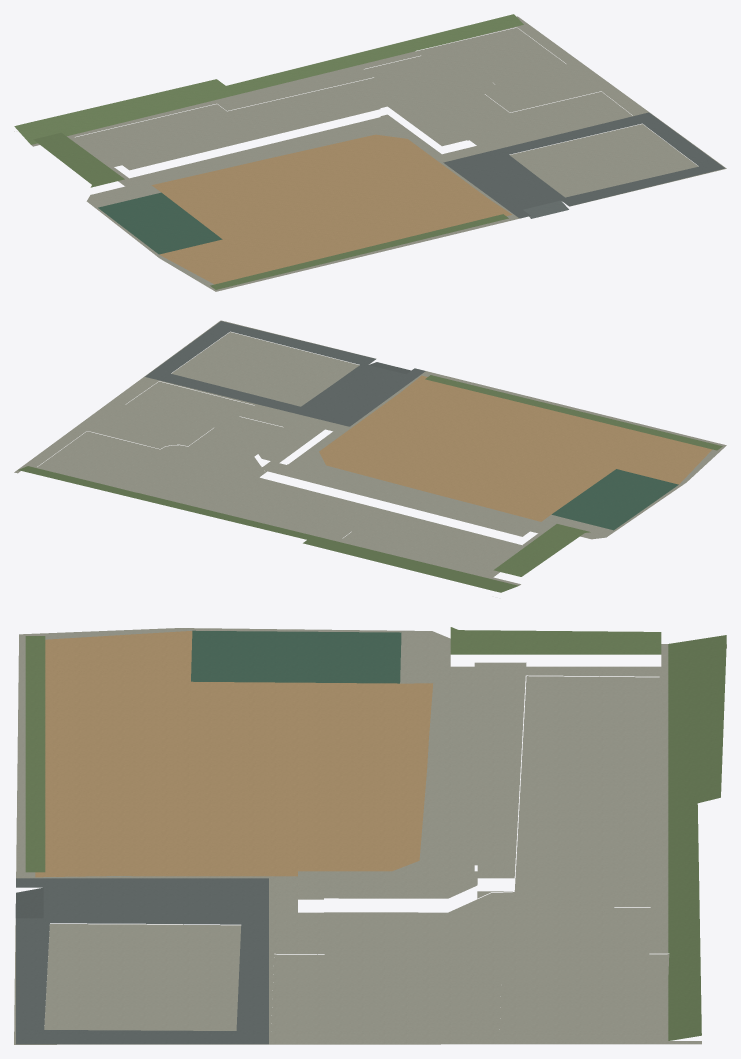
3 views of the same model, one above another, from view 1: azimuth 30°, elevation 25°; view 2: azimuth 150°, elevation 25°; view 3: azimuth 270°, elevation 25° (orthographic). The views are drawn at different scales.
Parts seen in each view (by area): view 1: surface_dirt-field, surface_underbuilding-561910484, surface_school-walk, surface_north-bank, surface_gym-approach, surface_underbuilding-561910485, surface_basketball, surface_main-apron, surface_west-garden, surface_south-garden, surface_wing-apron, surface_gate-ramp; view 2: surface_dirt-field, surface_underbuilding-561910484, surface_school-walk, surface_gym-approach, surface_underbuilding-561910485, surface_north-bank, surface_basketball, surface_main-apron, surface_west-garden, surface_south-garden, surface_wing-apron; view 3: surface_dirt-field, surface_underbuilding-561910484, surface_school-walk, surface_gym-approach, surface_underbuilding-561910485, surface_north-bank, surface_basketball, surface_main-apron, surface_west-garden, surface_south-garden, surface_wing-apron, surface_gate-ramp.
Boxes of the visible parts, box(x1,y1,x2,y2) form: surface_dirt-field: box(151, 134, 511, 284); surface_underbuilding-561910484: box(75, 27, 632, 166); surface_school-walk: box(14, 16, 726, 291); surface_north-bank: box(14, 14, 523, 144); surface_gym-approach: box(443, 112, 724, 218); surface_underbuilding-561910485: box(510, 124, 698, 197); surface_basketball: box(98, 192, 222, 254); surface_main-apron: box(114, 96, 395, 170); surface_west-garden: box(33, 132, 124, 187); surface_south-garden: box(210, 214, 508, 289); surface_wing-apron: box(388, 102, 476, 146); surface_gate-ramp: box(523, 200, 568, 218); surface_dirt-field: box(319, 375, 712, 521); surface_underbuilding-561910484: box(37, 381, 521, 573); surface_school-walk: box(14, 320, 726, 585); surface_gym-approach: box(145, 321, 425, 426); surface_underbuilding-561910485: box(171, 332, 359, 406); surface_north-bank: box(18, 466, 518, 592); surface_basketball: box(551, 469, 678, 530); surface_main-apron: box(260, 461, 537, 536); surface_west-garden: box(493, 524, 590, 576); surface_south-garden: box(425, 375, 722, 450); surface_wing-apron: box(254, 415, 332, 462); surface_dirt-field: box(35, 631, 433, 877); surface_underbuilding-561910484: box(271, 676, 669, 1034); surface_school-walk: box(14, 628, 726, 1044); surface_gym-approach: box(16, 878, 268, 1044); surface_underbuilding-561910485: box(44, 924, 241, 1030); surface_north-bank: box(668, 635, 726, 1040); surface_basketball: box(191, 630, 401, 683); surface_main-apron: box(474, 662, 526, 878); surface_west-garden: box(450, 627, 661, 654); surface_south-garden: box(25, 636, 45, 872); surface_wing-apron: box(298, 871, 477, 899); surface_gate-ramp: box(15, 887, 43, 918).
Size of the model in its own units: 136 by 2.79 by 98.15.
Materials: 5 (5 with a texture image).
